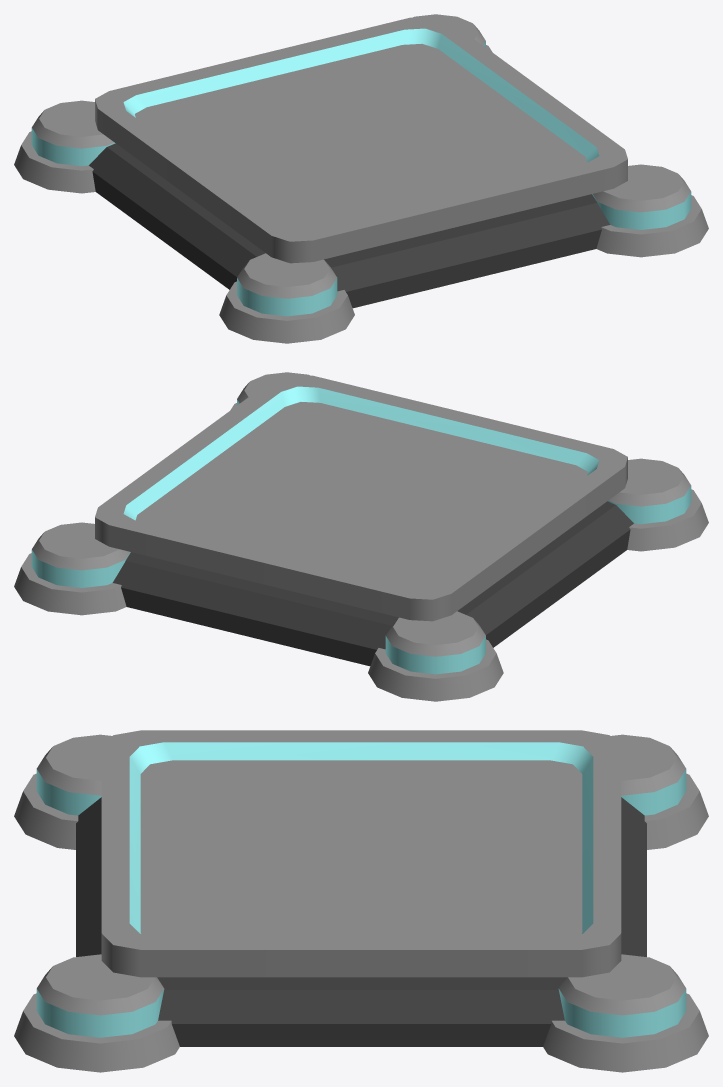
File: SM_PressurePlate.fbx
3 views of the same model, one above another, from view 1: azimuth 30°, elevation 25°; view 2: azimuth 150°, elevation 25°; view 3: azimuth 270°, elevation 25° (orthographic). The views are drawn at different scales.
Parts seen in each view (by area): view 1: Plate, SM_PressurePlate; view 2: Plate, SM_PressurePlate; view 3: Plate, SM_PressurePlate.
Boxes of the visible parts, x1,y1,x2,y2 form: Plate: (95, 16, 627, 263); SM_PressurePlate: (14, 14, 708, 343); Plate: (95, 374, 627, 621); SM_PressurePlate: (14, 372, 708, 701); Plate: (101, 730, 621, 977); SM_PressurePlate: (14, 734, 708, 1072).
Bounding box in the file's own units: 182 × 24.93 × 183.
